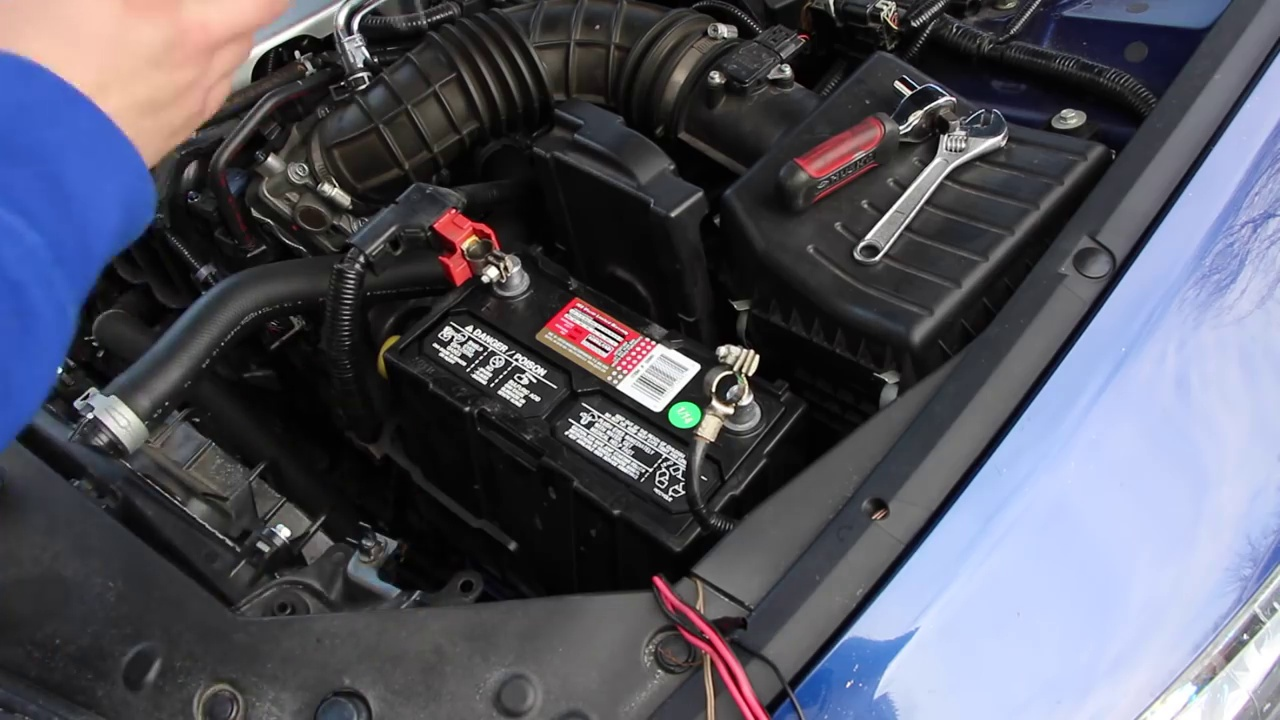battery: (407, 242, 788, 562)
neg_disconnected: (686, 339, 780, 504)
pos_connected: (416, 200, 526, 327)
